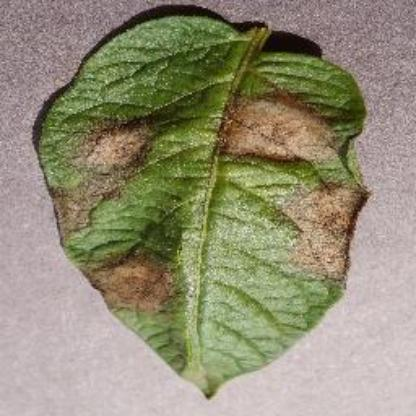Late-Blight: (37, 9, 374, 397)
